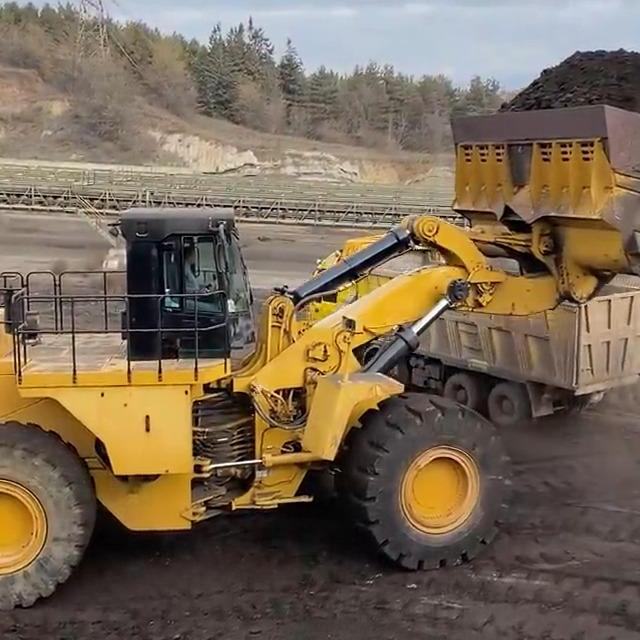NO-Hardhat: (185, 246, 196, 255)
NO-Mask: (190, 258, 200, 265)
NO-Safety Vest: (177, 263, 197, 290)
Person: (177, 246, 223, 303)
dump truck: (317, 227, 640, 432)
wheel loader: (0, 99, 640, 618)
